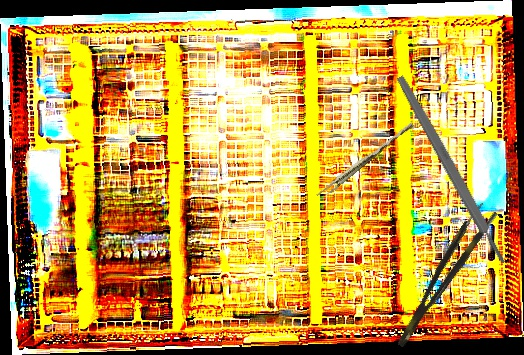Scalpel Handle: (394, 73, 509, 267)
Tissue Forceps: (385, 200, 499, 350), (315, 118, 416, 203)
